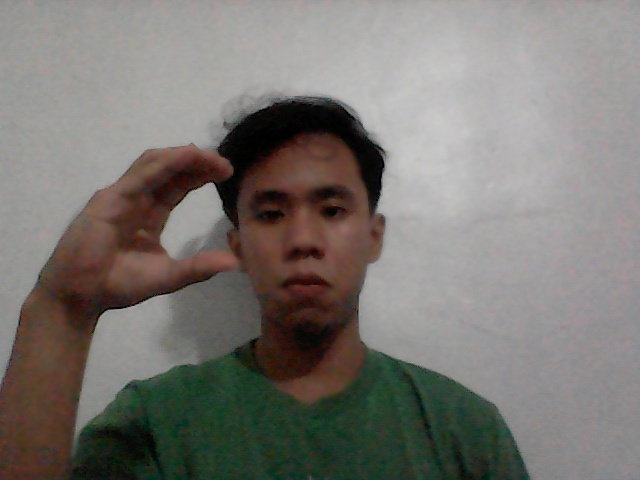C: (16, 123, 264, 325)
